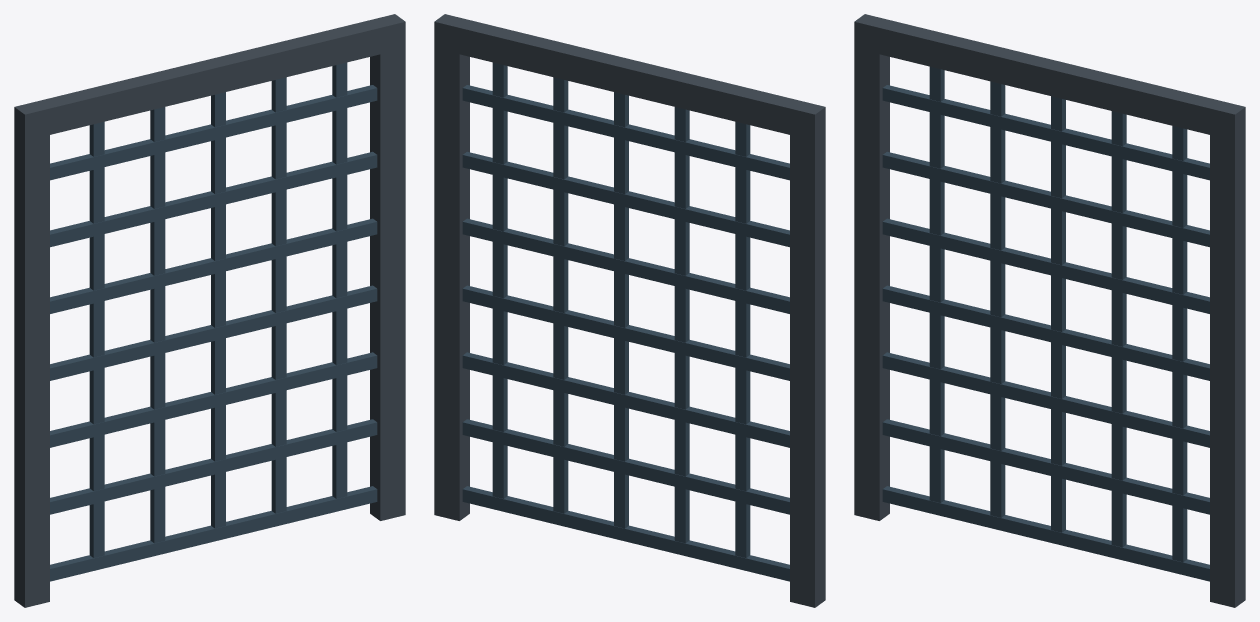
The model's file is Fence_1_H_2.fbx.
3 renders of one model, left to right at view 1: azimuth 30°, elevation 25°; view 2: azimuth 150°, elevation 25°; view 3: azimuth 330°, elevation 25°, orthographic.
Visible parts, largest first — view 1: Fence_1_H_2; view 2: Fence_1_H_2; view 3: Fence_1_H_2.
Boxes of the visible parts, box(x1,y1,x2,y2) form: Fence_1_H_2: box(14, 14, 405, 607); Fence_1_H_2: box(434, 14, 825, 607); Fence_1_H_2: box(854, 14, 1245, 607).
Size of the model in its own units: 200 by 248 by 9.6.
